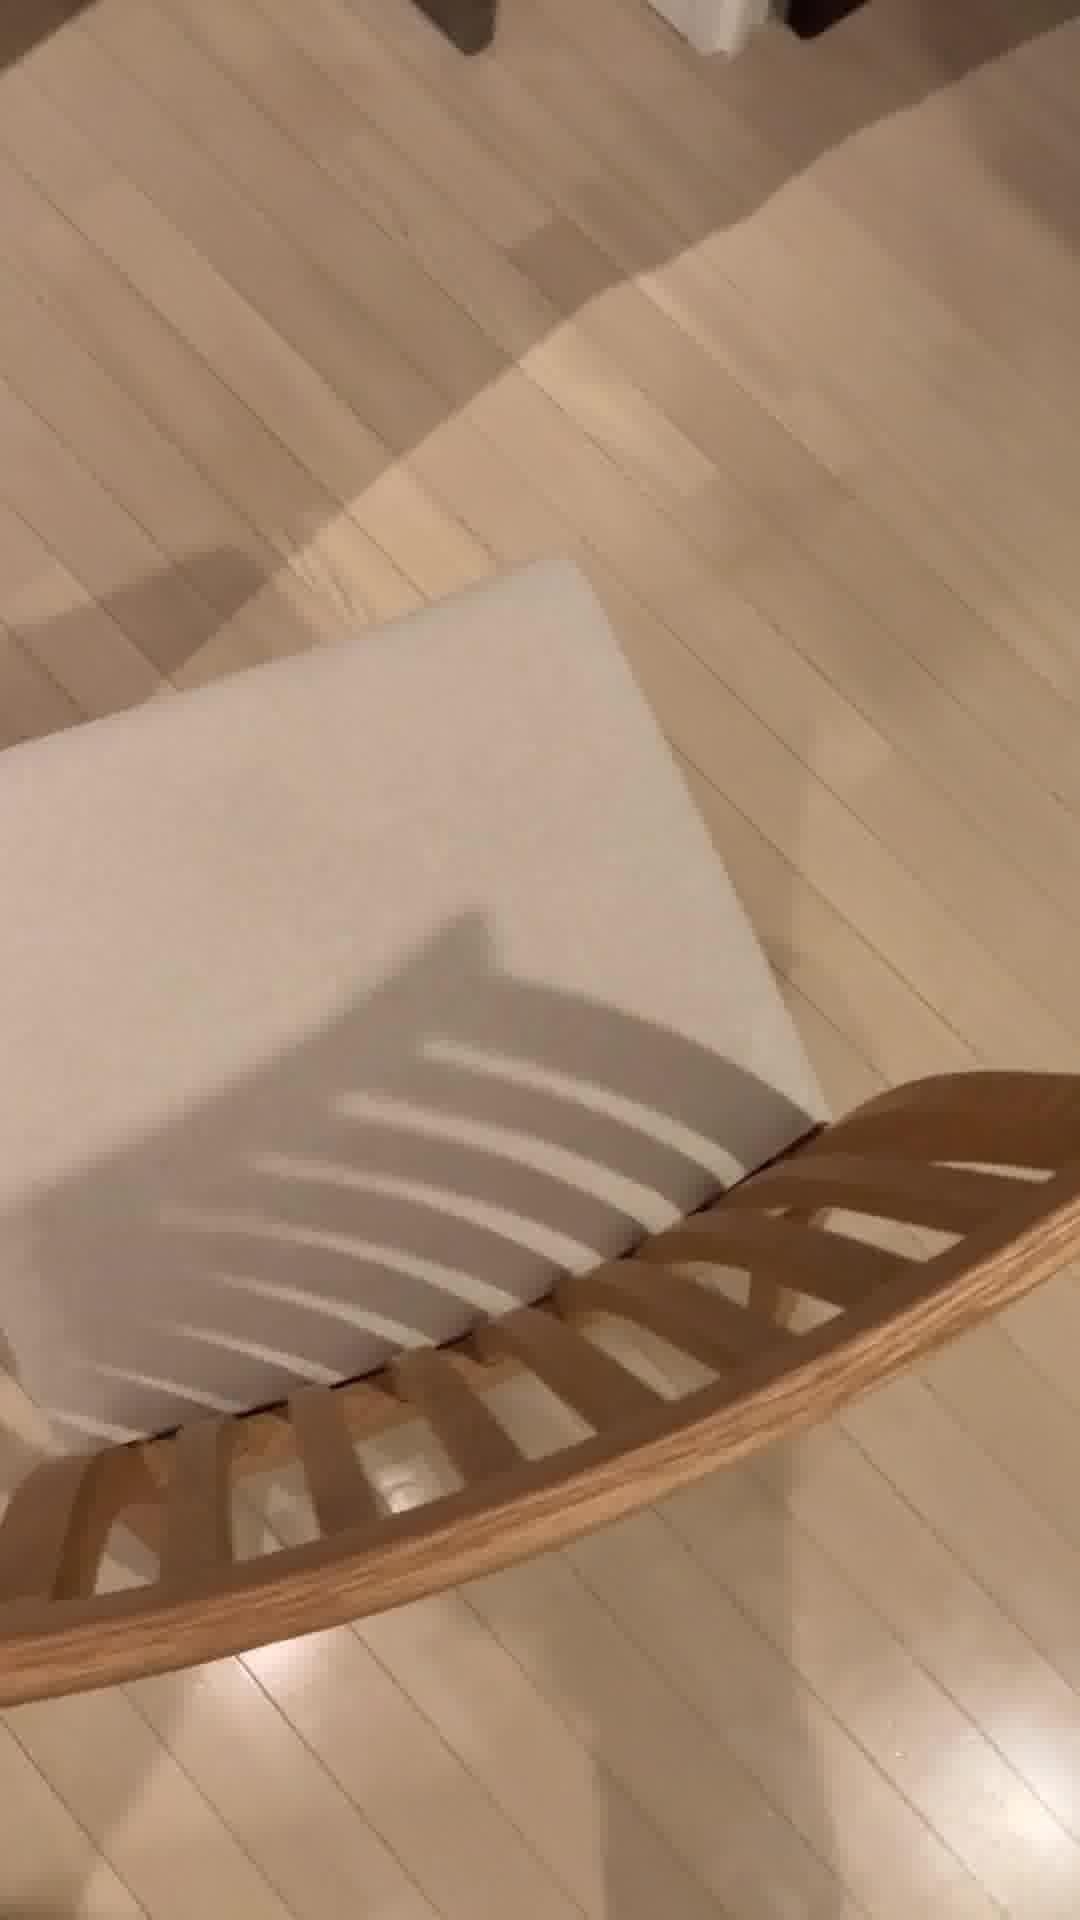takumikan-chair: (0, 556, 1080, 1705)
